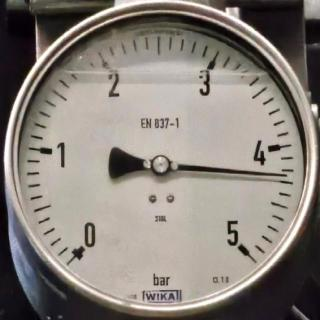gauge: (0, 0, 320, 320), (60, 219, 104, 269), (216, 218, 258, 270), (150, 153, 172, 177), (276, 170, 292, 181)
